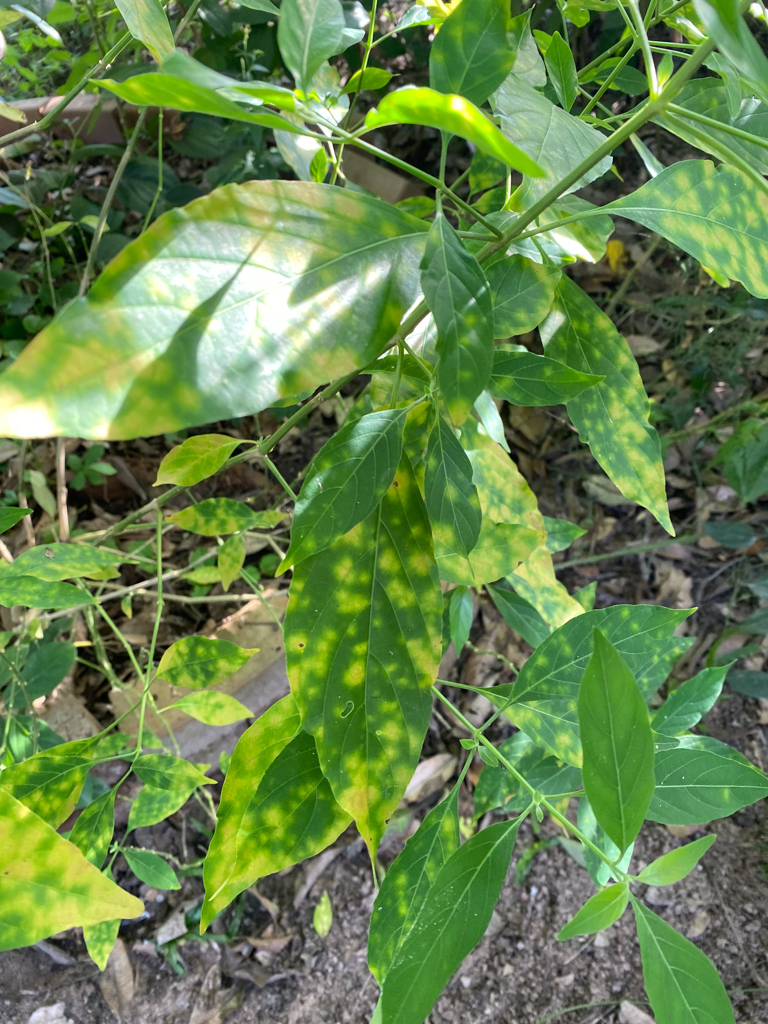Pepper yellow leaf: (3, 184, 395, 443), (299, 473, 447, 851), (204, 693, 345, 932), (553, 295, 686, 538), (458, 418, 586, 633), (5, 787, 142, 965), (618, 157, 768, 300), (497, 676, 593, 769), (18, 540, 114, 618), (131, 744, 209, 837), (161, 631, 262, 693), (14, 743, 94, 812), (169, 498, 265, 538), (207, 538, 251, 593)
